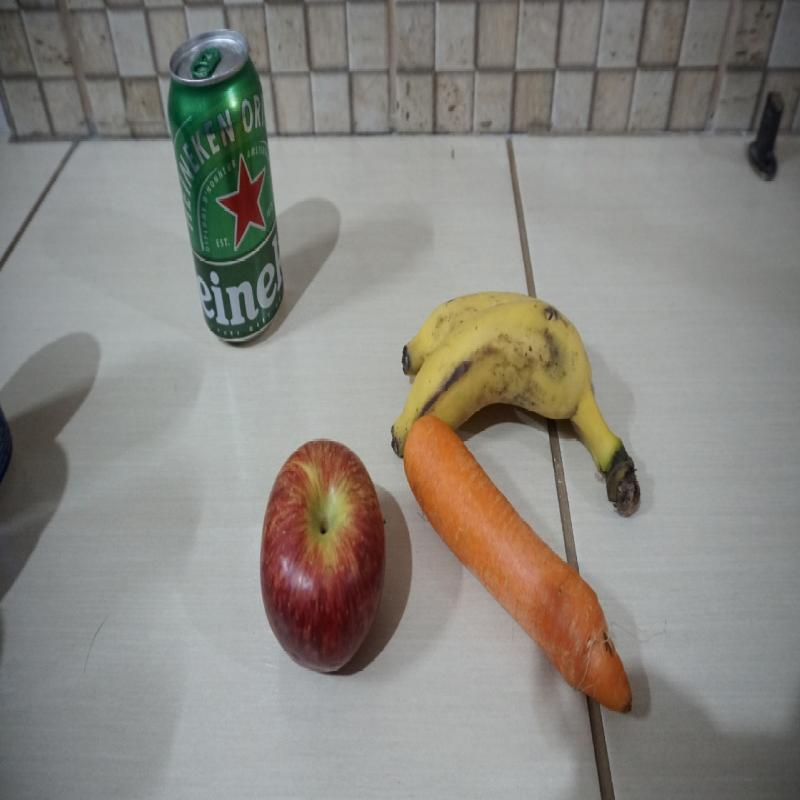Apple: (257, 438, 389, 674)
Banana: (390, 291, 642, 515)
Beer can: (167, 27, 285, 345)
Carrot: (405, 416, 635, 722)
